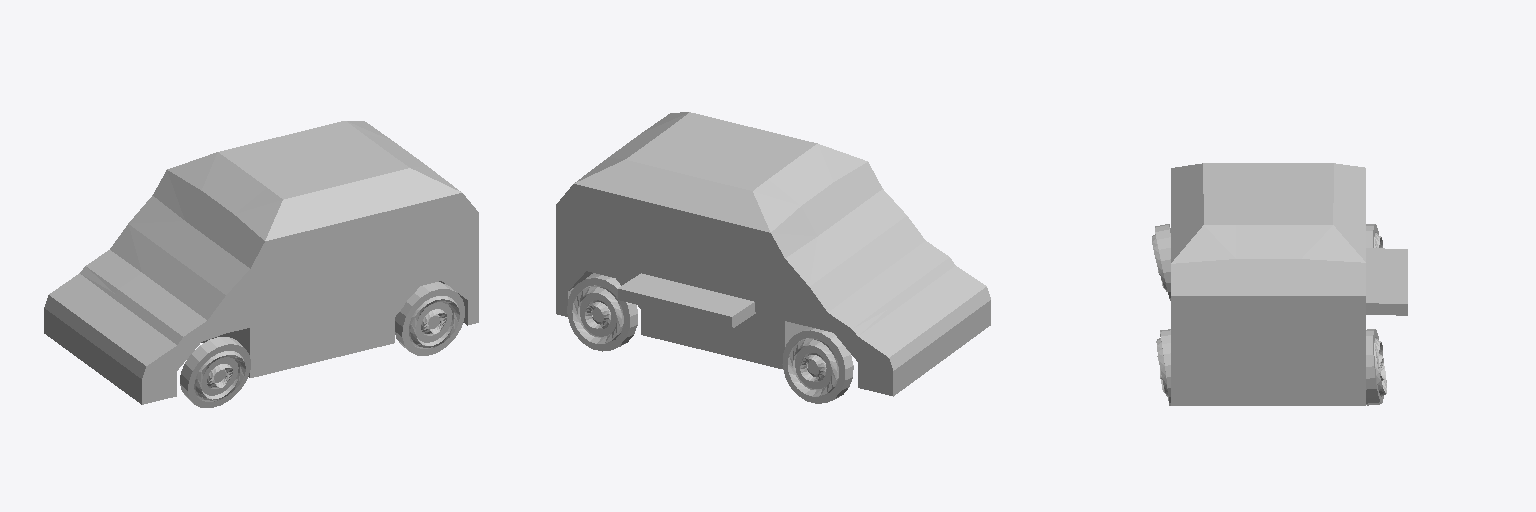
The model's file is car.obj.
3 views of the same model, side by side, from view 1: azimuth 30°, elevation 25°; view 2: azimuth 150°, elevation 25°; view 3: azimuth 270°, elevation 25° (orthographic).
Parts seen in each view (by area): view 1: pCube1, pCube1 pCylinder3, pCube1 pCylinder5; view 2: pCube1, pCube1 pCylinder1, pCube1 pCylinder2; view 3: pCube1, pCube1 pCylinder2, pCube1 pCylinder5, pCube1 pCylinder3.
Part boxes in pixels (left/top/right/bottom): pCube1: left=44, top=121, right=478, bottom=404; pCube1 pCylinder3: left=395, top=282, right=464, bottom=355; pCube1 pCylinder5: left=180, top=337, right=250, bottom=407; pCube1: left=556, top=112, right=990, bottom=396; pCube1 pCylinder1: left=782, top=328, right=853, bottom=403; pCube1 pCylinder2: left=567, top=275, right=637, bottom=351; pCube1: left=1171, top=163, right=1407, bottom=405; pCube1 pCylinder2: left=1366, top=329, right=1386, bottom=405; pCube1 pCylinder5: left=1152, top=224, right=1170, bottom=300; pCube1 pCylinder3: left=1156, top=329, right=1170, bottom=405.
Size of the model in its own units: 8.82 by 4.37 by 5.81.